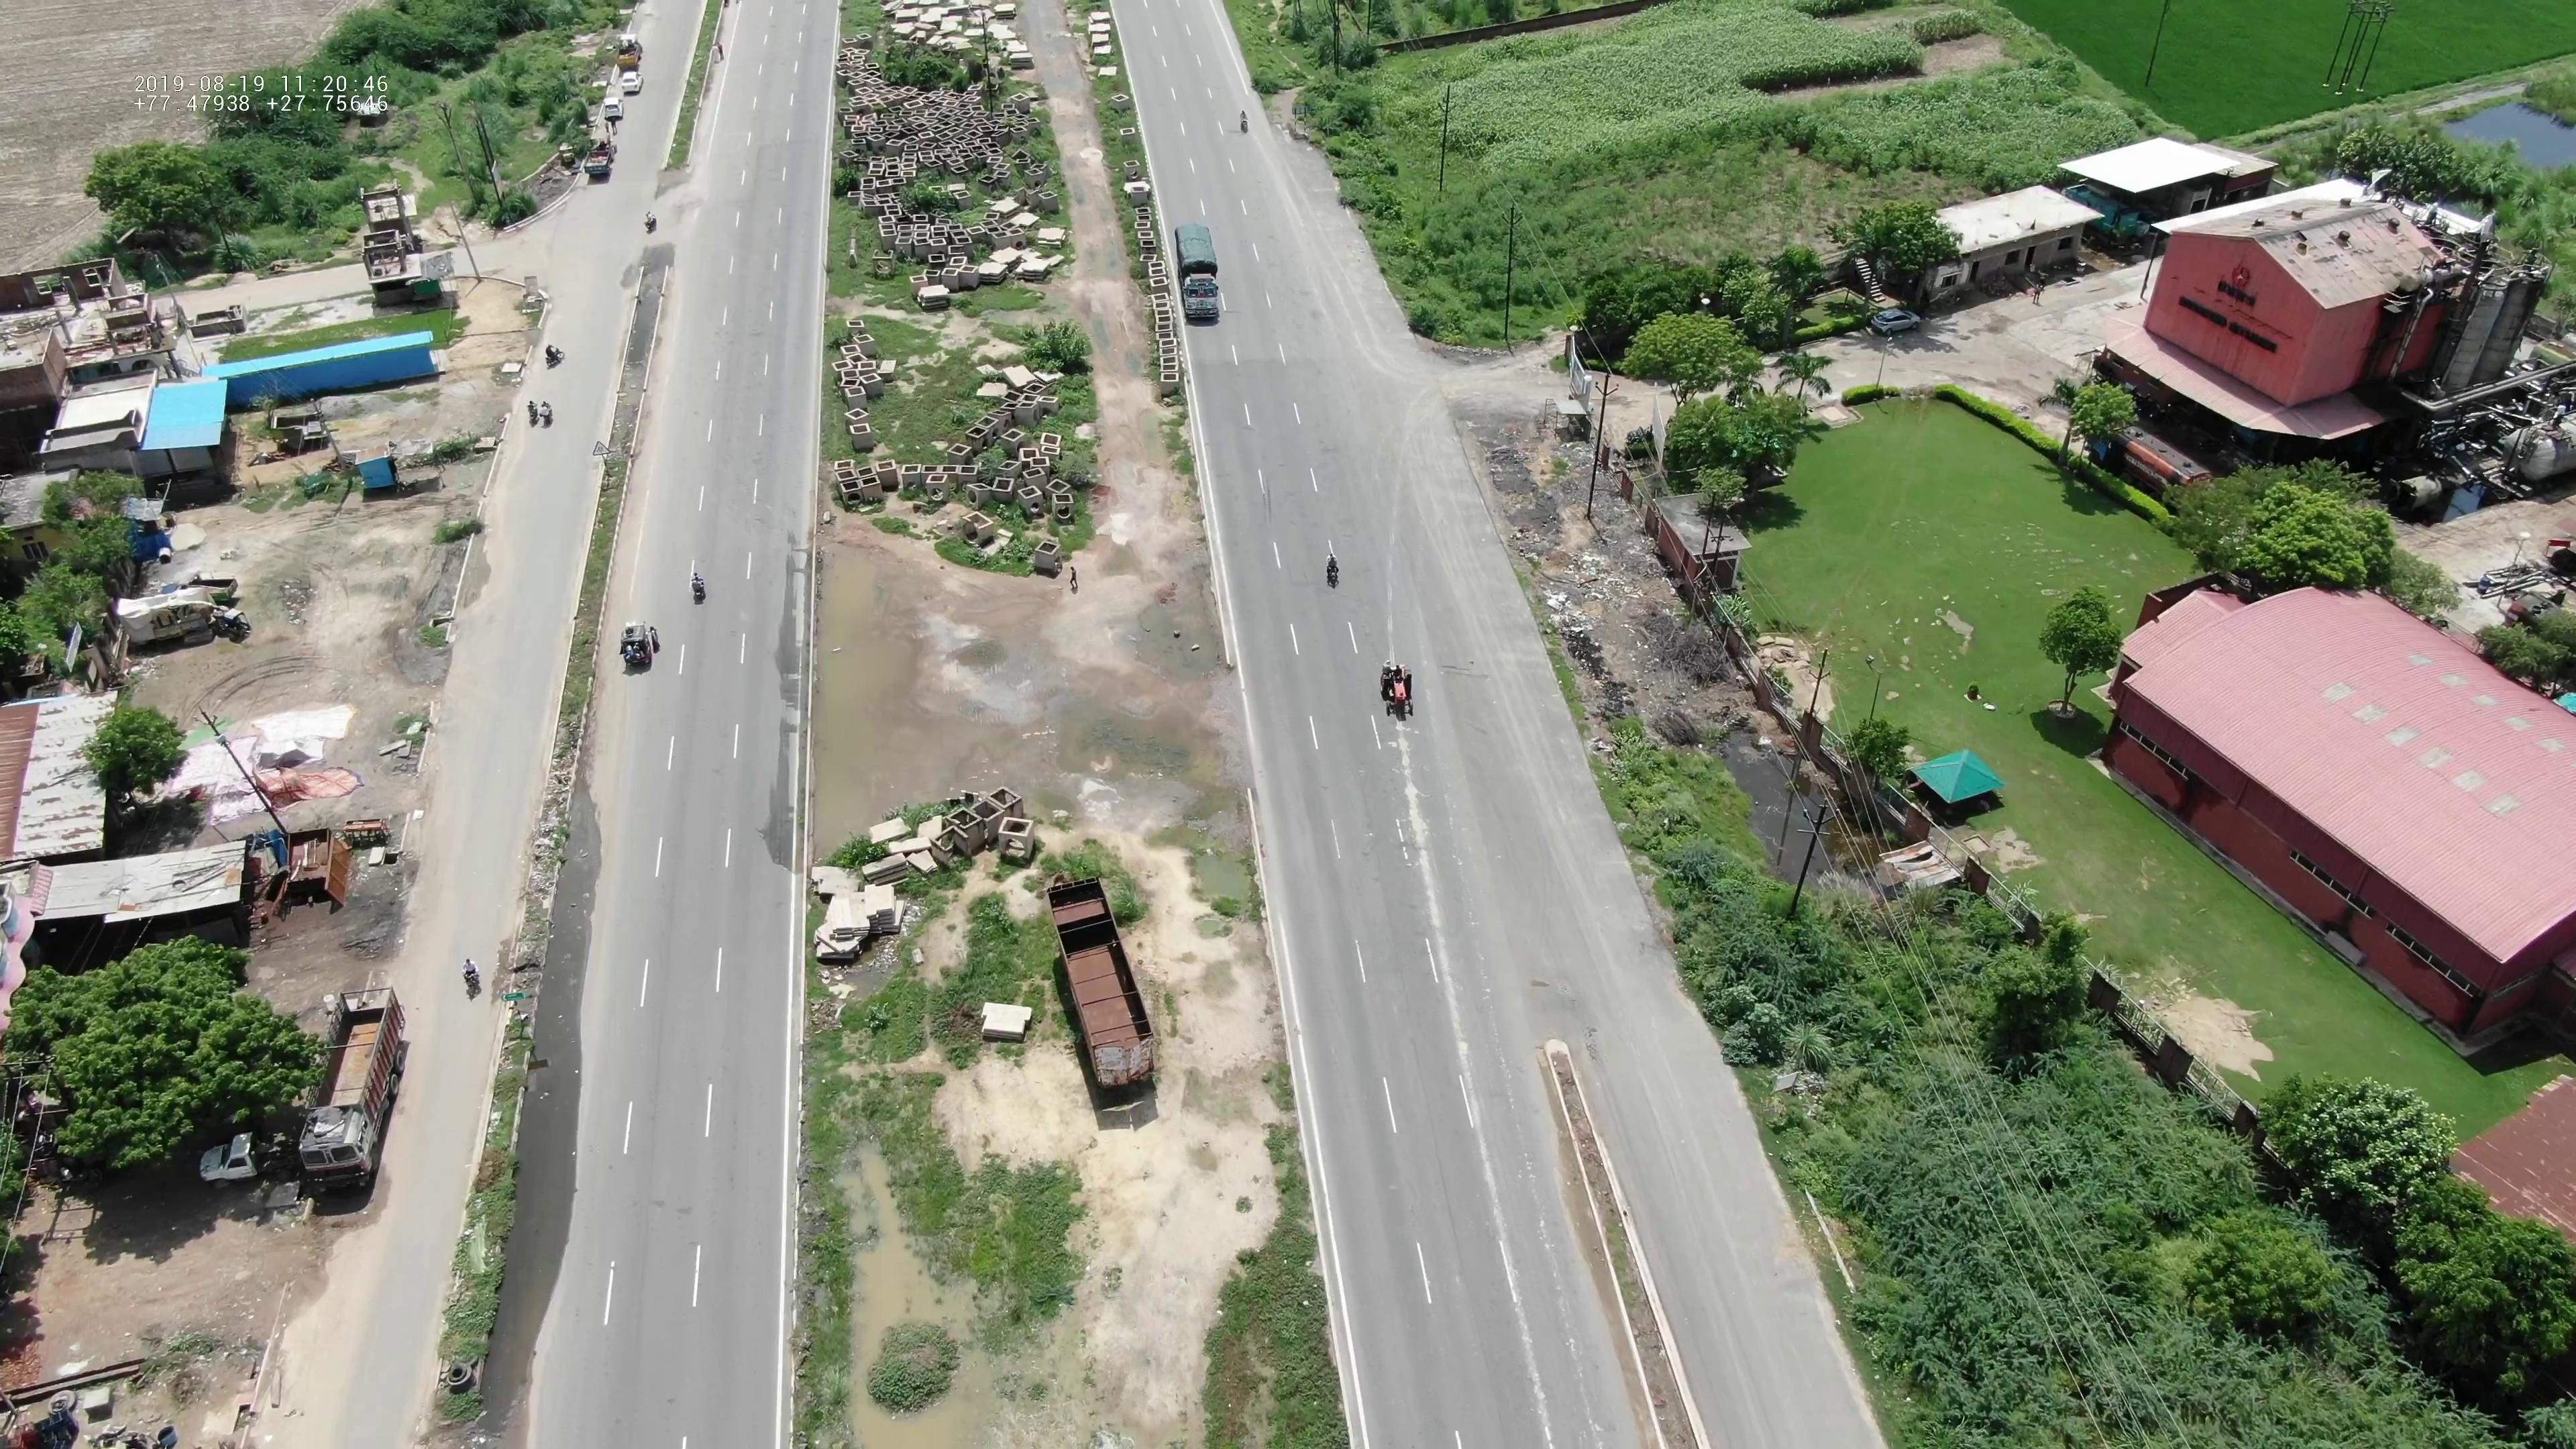Ravelling: (1394, 741, 1445, 954)
Waterlogging: (494, 870, 586, 1357)
